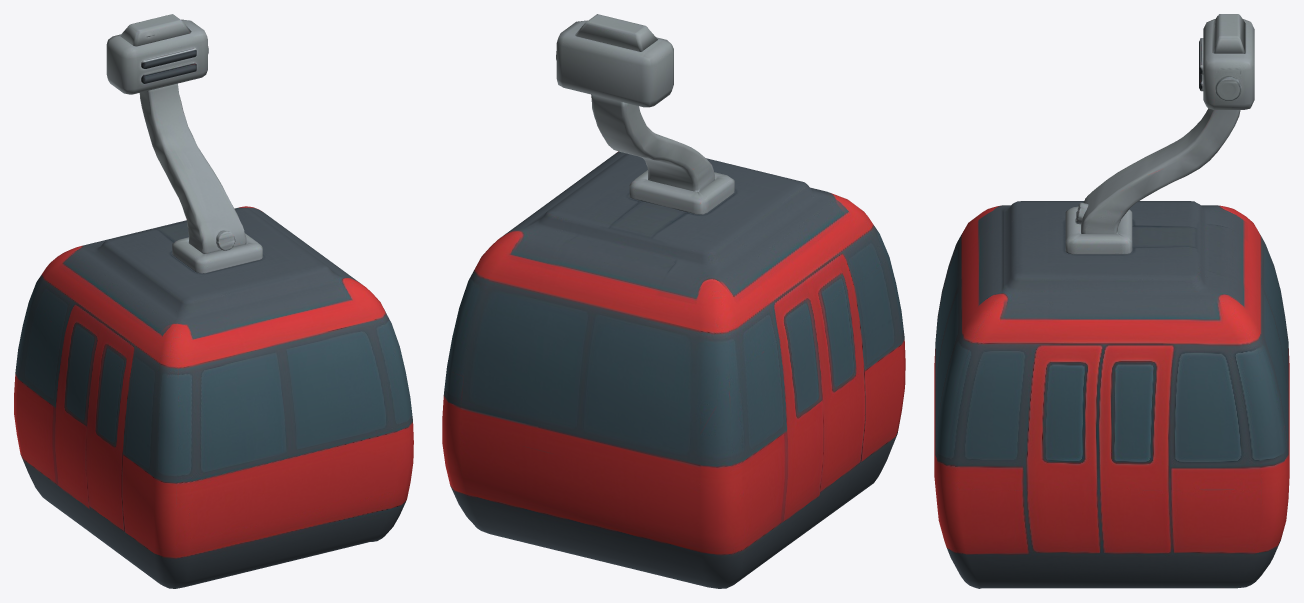
Rendered from cabin.glb.
3 renders of one model, left to right at view 1: azimuth 30°, elevation 25°; view 2: azimuth 150°, elevation 25°; view 3: azimuth 270°, elevation 25°, orthographic. The views are drawn at different scales.
Parts seen in each view (by area): view 1: tripo_node_e0eece2e-fcfd-41aa-a42e-1ecc035ba9d4; view 2: tripo_node_e0eece2e-fcfd-41aa-a42e-1ecc035ba9d4; view 3: tripo_node_e0eece2e-fcfd-41aa-a42e-1ecc035ba9d4.
Boxes of the visible parts, x1,y1,x2,y2 form: tripo_node_e0eece2e-fcfd-41aa-a42e-1ecc035ba9d4: (14,14,413,588); tripo_node_e0eece2e-fcfd-41aa-a42e-1ecc035ba9d4: (442,14,905,588); tripo_node_e0eece2e-fcfd-41aa-a42e-1ecc035ba9d4: (934,14,1289,588).
Bounding box in the file's own units: 0.584 × 0.998 × 0.6348.
Materials: 1 (1 with a texture image).
